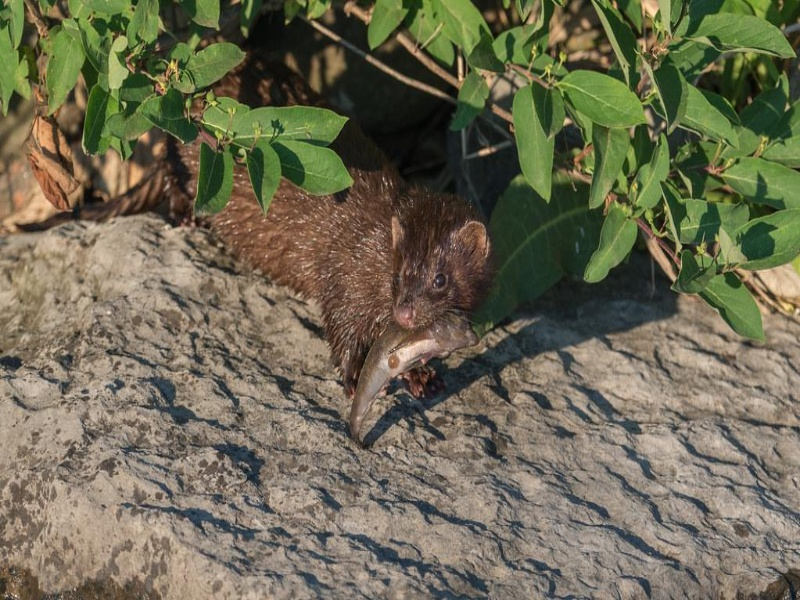minkish: (23, 121, 497, 402)
